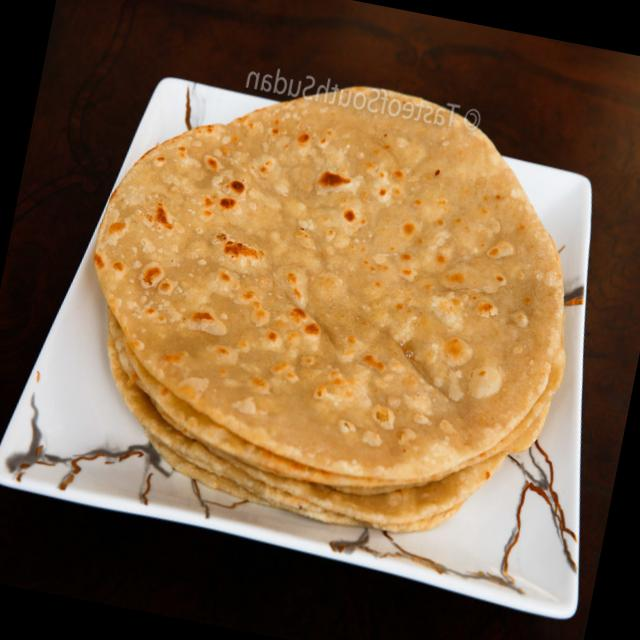roti: (84, 86, 567, 536)
